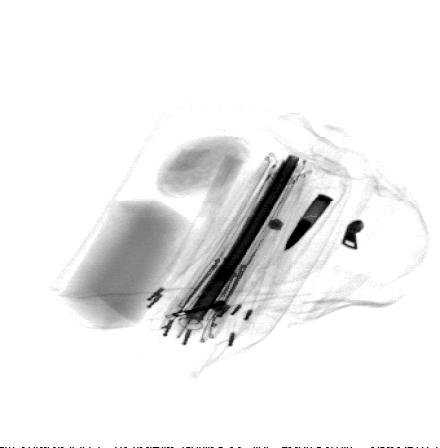Bullet: (283, 193, 335, 253)
